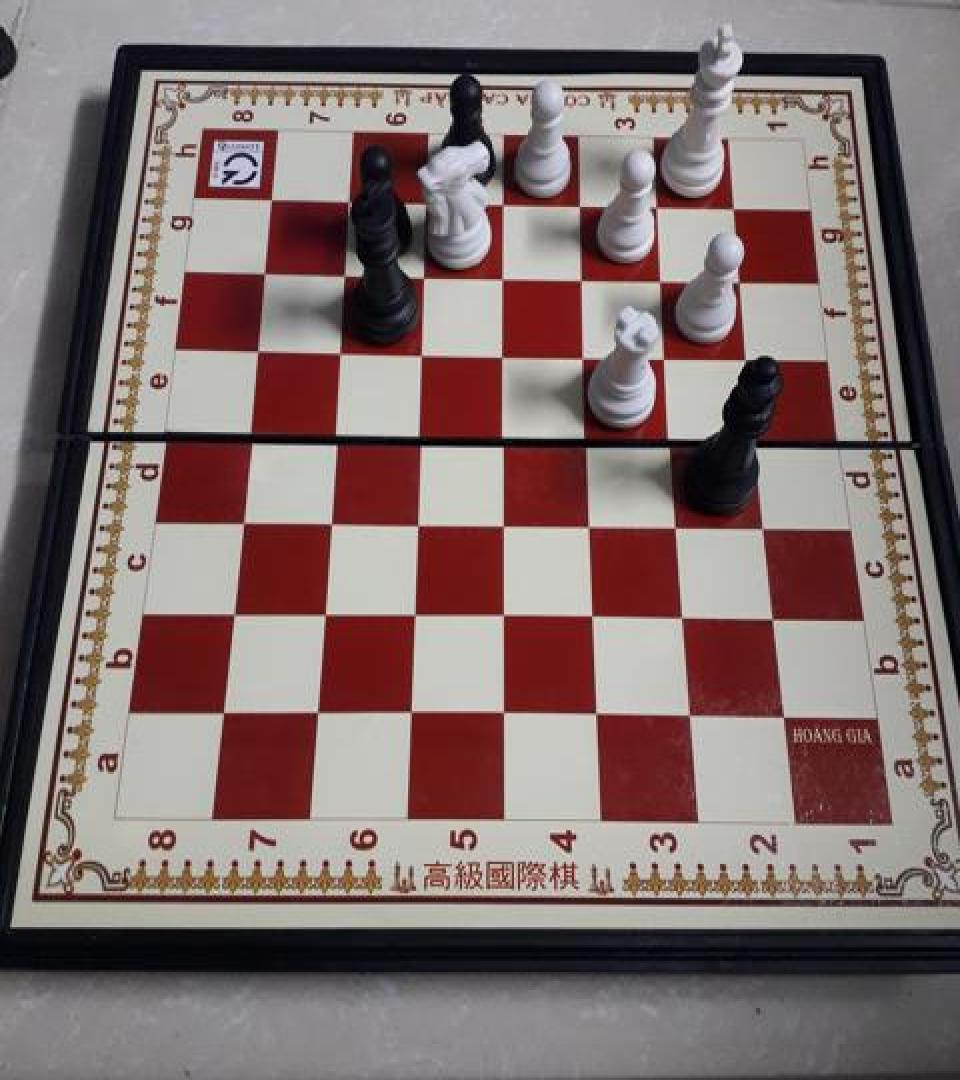xcorner: (210, 693, 242, 729), (304, 693, 336, 729), (398, 693, 430, 729), (492, 694, 524, 730), (585, 694, 617, 730), (677, 695, 709, 731), (769, 695, 801, 731), (219, 593, 251, 629), (310, 594, 342, 630), (401, 595, 433, 631), (491, 595, 523, 631), (581, 596, 613, 632), (671, 598, 703, 634), (760, 598, 792, 634), (228, 500, 260, 536), (316, 502, 348, 538), (404, 503, 436, 539), (491, 504, 523, 540), (578, 504, 610, 540), (665, 505, 697, 541), (751, 506, 783, 542), (236, 414, 268, 450), (321, 415, 353, 451), (406, 416, 438, 452), (491, 418, 523, 454), (575, 418, 607, 454), (659, 420, 691, 456), (743, 421, 775, 457), (243, 332, 275, 368), (326, 333, 358, 369), (409, 335, 441, 371), (491, 336, 523, 372), (573, 338, 605, 374), (654, 338, 686, 374), (735, 340, 767, 376), (250, 256, 282, 292), (331, 256, 363, 292), (411, 258, 443, 294), (491, 260, 523, 296), (570, 261, 602, 297), (649, 262, 681, 298), (728, 263, 760, 299), (257, 184, 289, 220), (335, 184, 367, 220), (491, 187, 523, 223), (568, 189, 600, 225), (645, 190, 677, 226), (721, 191, 753, 227), (413, 186, 445, 221)
